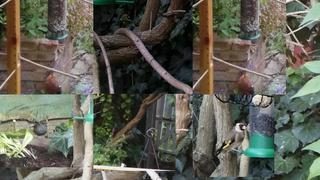goldfinch: (213, 121, 248, 157)
sparrow: (29, 121, 47, 138)
